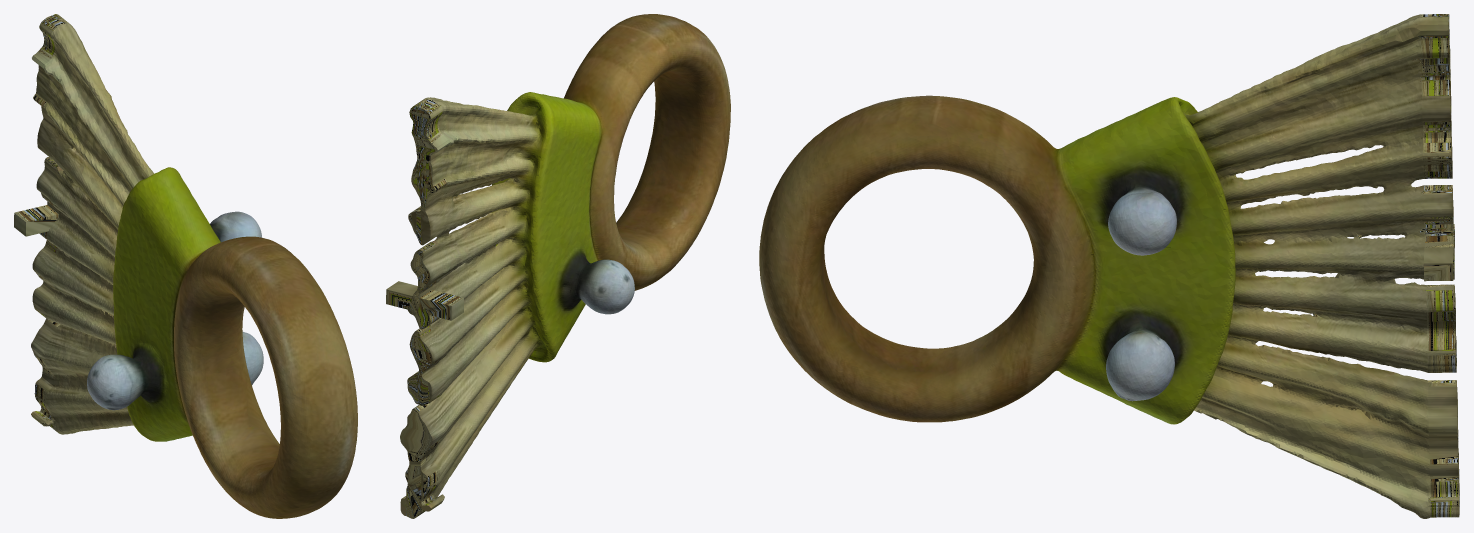
File: mini_sweeper_collision.glb
3 renders of one model, left to right at view 1: azimuth 30°, elevation 25°; view 2: azimuth 150°, elevation 25°; view 3: azimuth 270°, elevation 25°, orthographic. The views are drawn at different scales.
Visible parts, largest first — view 1: mini_sweeper6; view 2: mini_sweeper6; view 3: mini_sweeper6.
Part boxes in pixels (<box>): mini_sweeper6: <box>14,14,357,518</box>; mini_sweeper6: <box>386,14,730,518</box>; mini_sweeper6: <box>759,14,1459,518</box>.
Bounding box in the file's own units: 0.0476 × 0.1125 × 0.1435.
1 material, 1 textured.
